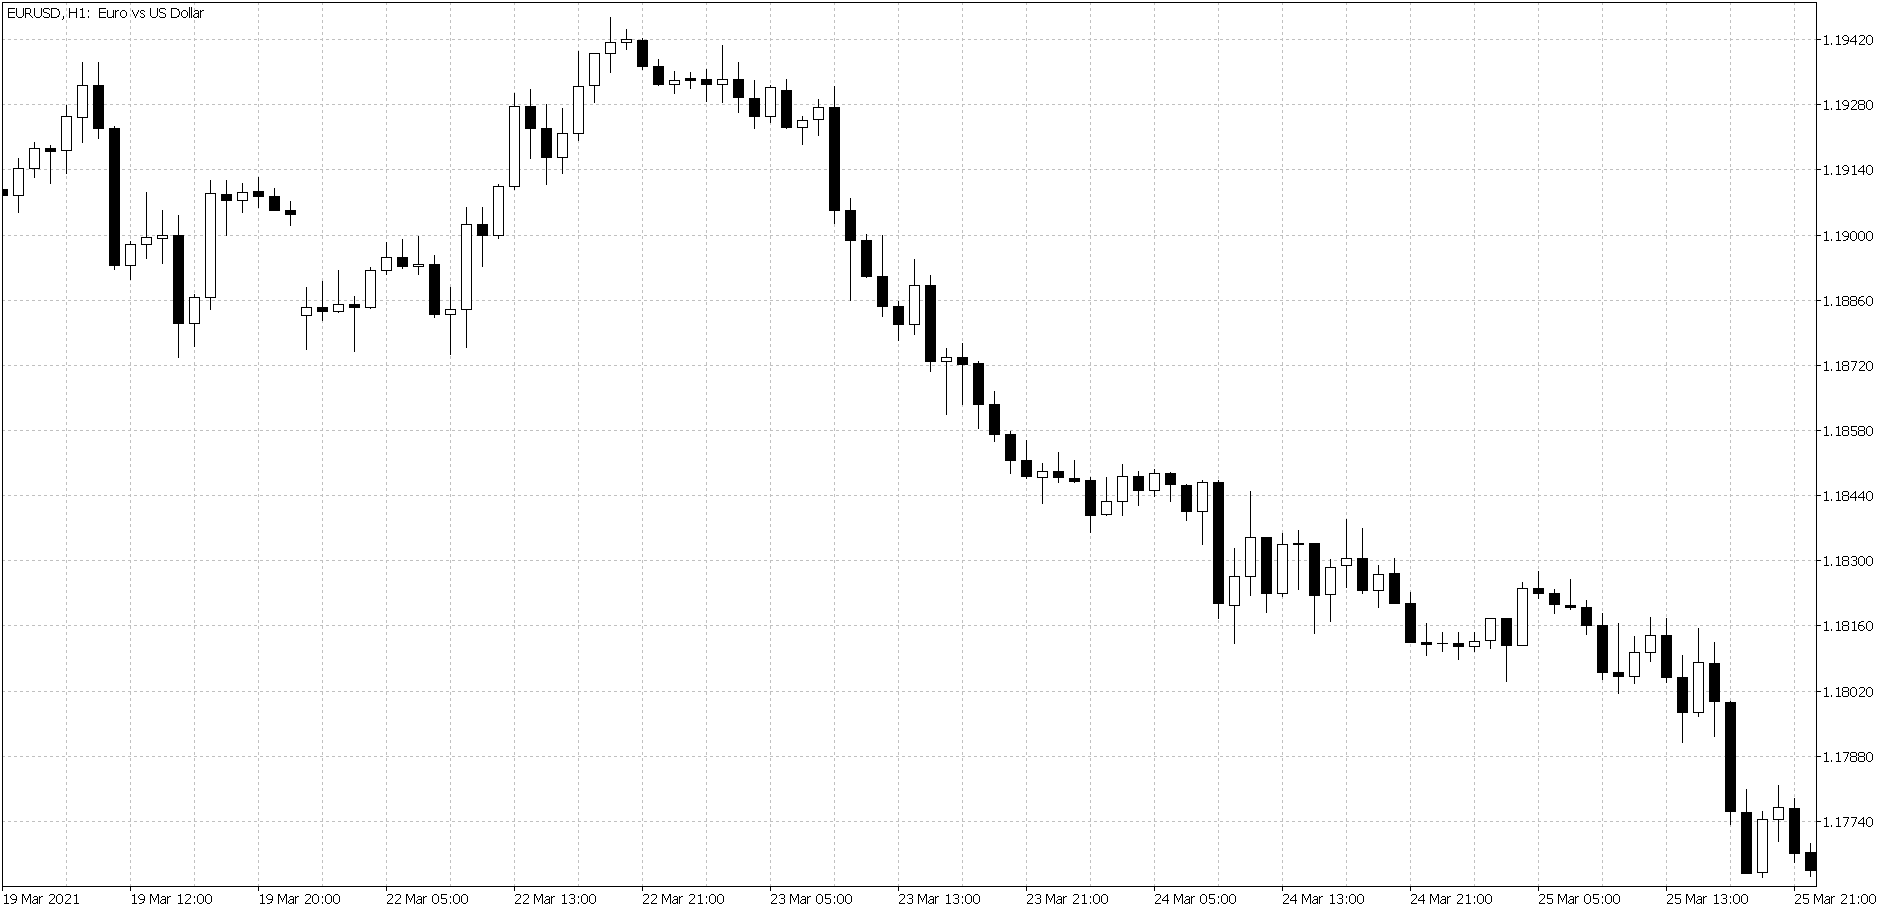bearishEngulfing: (75, 60, 106, 149)
eveningStar: (1515, 549, 1563, 661), (605, 16, 650, 89)
hammer: (186, 293, 203, 348)
